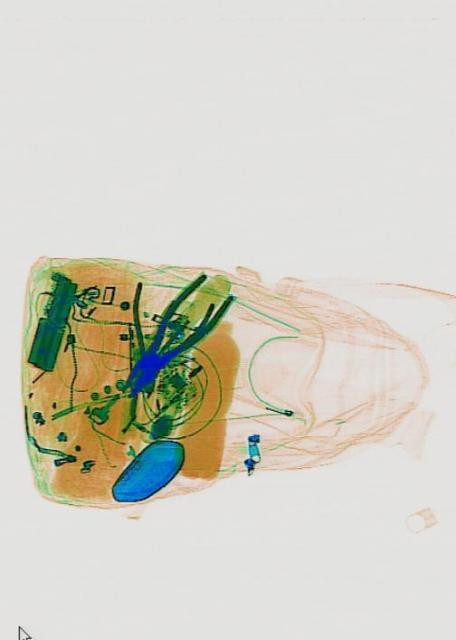Pliers: (110, 258, 233, 418), (99, 255, 214, 411)
